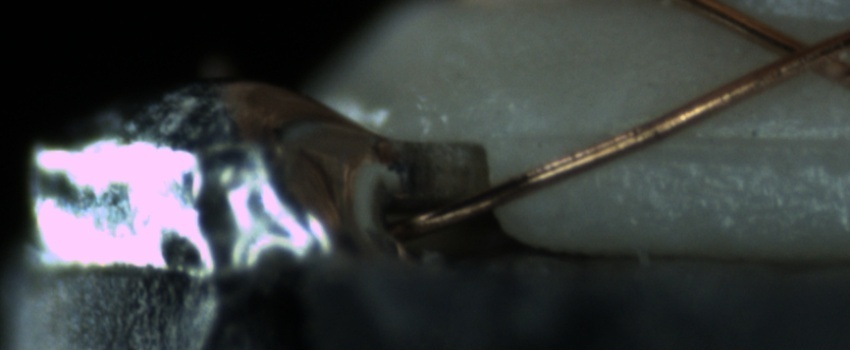CL: (752, 21, 846, 89)
DL: (534, 108, 850, 173)
